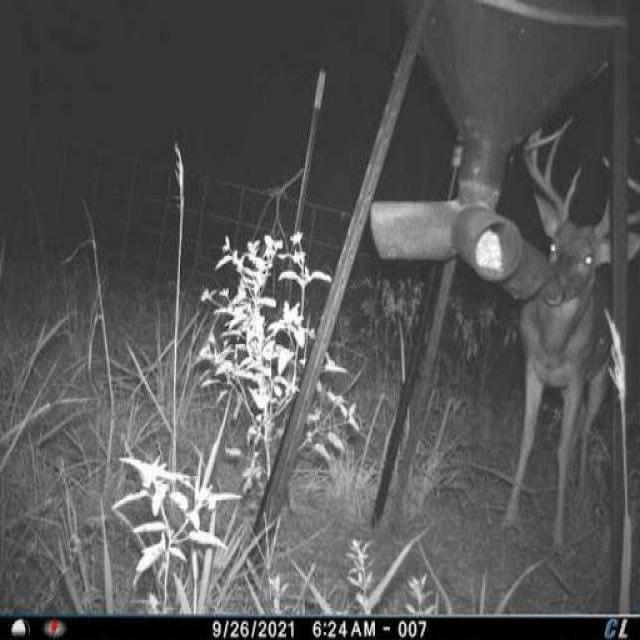deer: (499, 111, 640, 576)
